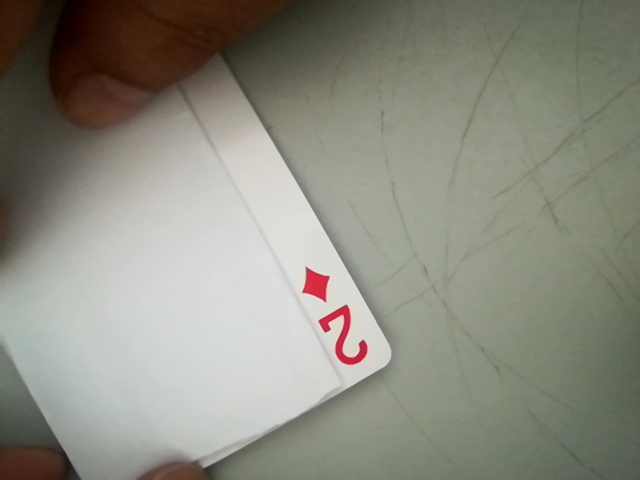fk 2: (293, 263, 383, 381)
